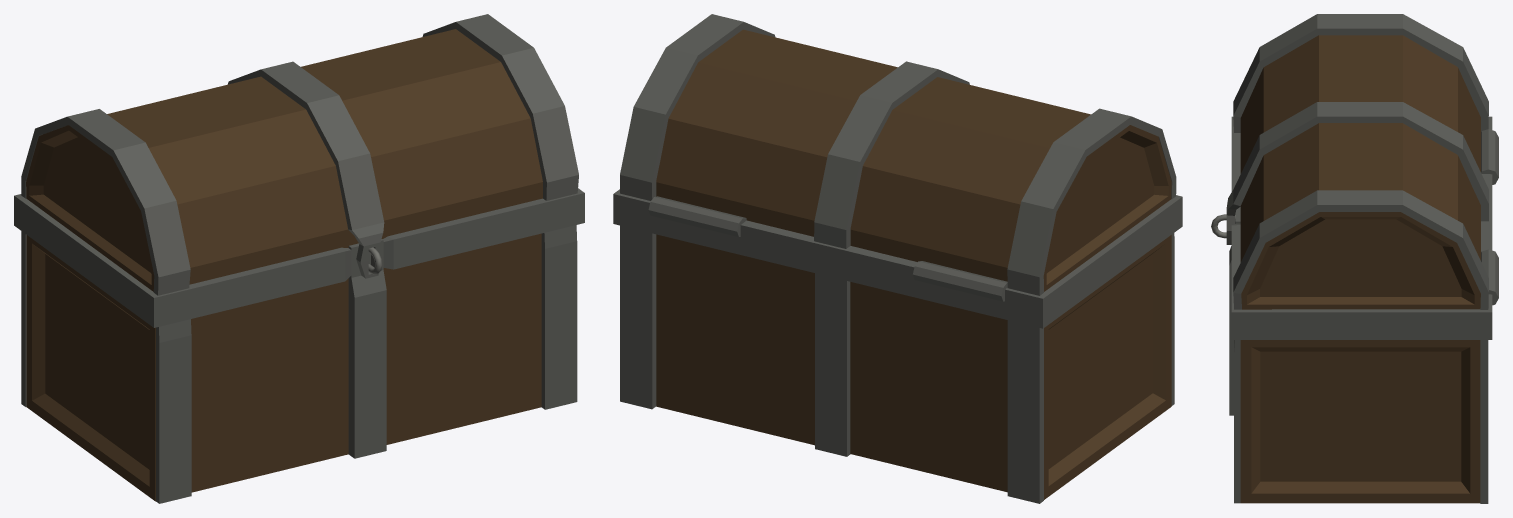
The model's file is chest.gltf.
3 renders of one model, left to right at view 1: azimuth 30°, elevation 25°; view 2: azimuth 150°, elevation 25°; view 3: azimuth 270°, elevation 25°, orthographic. The views are drawn at different scales.
Visible parts, largest first — view 1: Chest, Chest_Lid; view 2: Chest, Chest_Lid; view 3: Chest_Lid, Chest.
Boxes of the visible parts, bbox=[...] form: Chest: bbox=[14, 188, 584, 503]; Chest_Lid: bbox=[21, 14, 578, 295]; Chest: bbox=[613, 189, 1182, 503]; Chest_Lid: bbox=[620, 14, 1176, 295]; Chest_Lid: bbox=[1226, 14, 1488, 309]; Chest: bbox=[1211, 116, 1498, 503].
Bounding box in the file's own units: 0.9805 × 0.7002 × 0.6098.
Materials: 3 (3 with a texture image).
